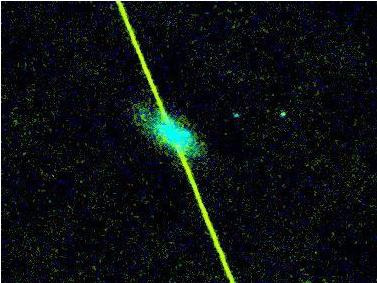star: (125, 102, 155, 132)
